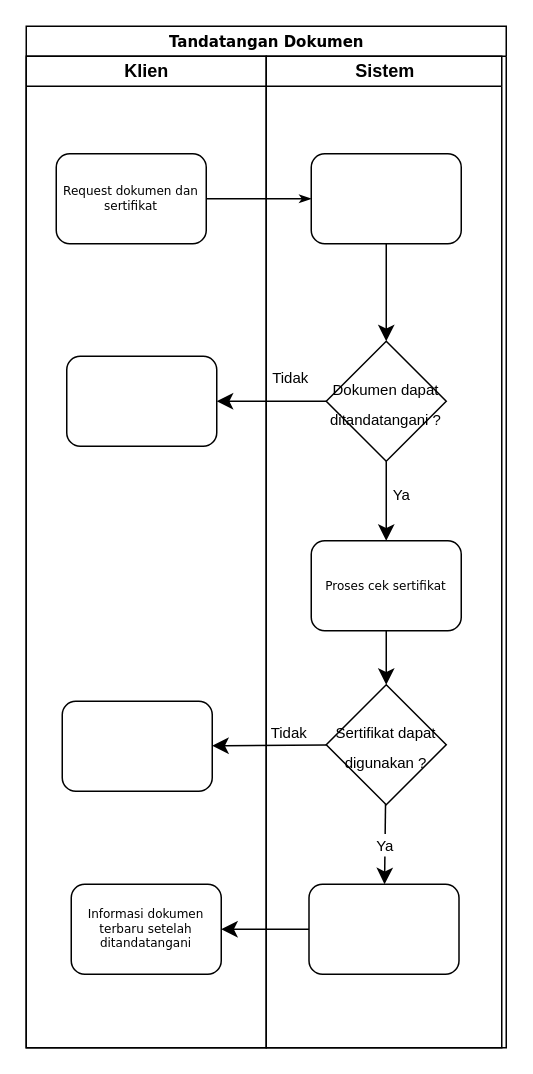
Image size: 533x1074. Some labels were removed from this diagram. Here are the shapes that lost their labels. From the top down, the box of each, then its label:
(310, 152, 461, 244): Proses cek dokumen
(65, 355, 217, 446): Informasi gagal dokumen tidak dapat ditandatangani
(61, 700, 212, 791): Informasi gagal setifikat tidak dapat digunakan
(308, 883, 459, 974): Proses tandatangan dokumen dan input sertifikat
